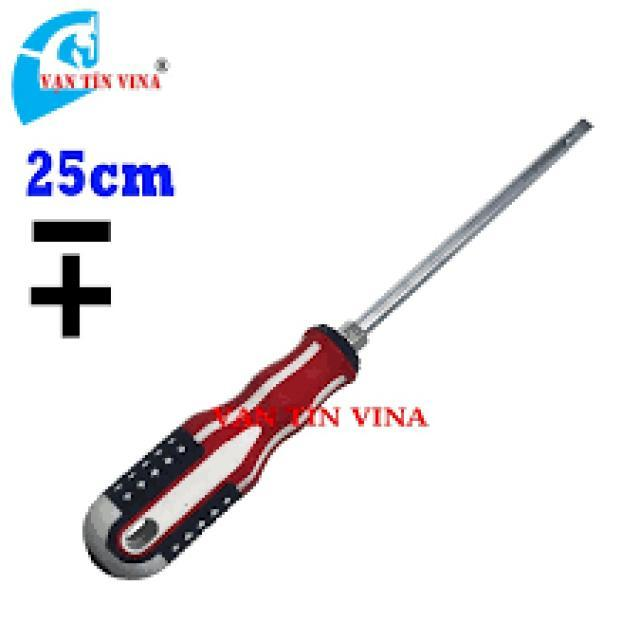screwdriver: (78, 108, 596, 586)
